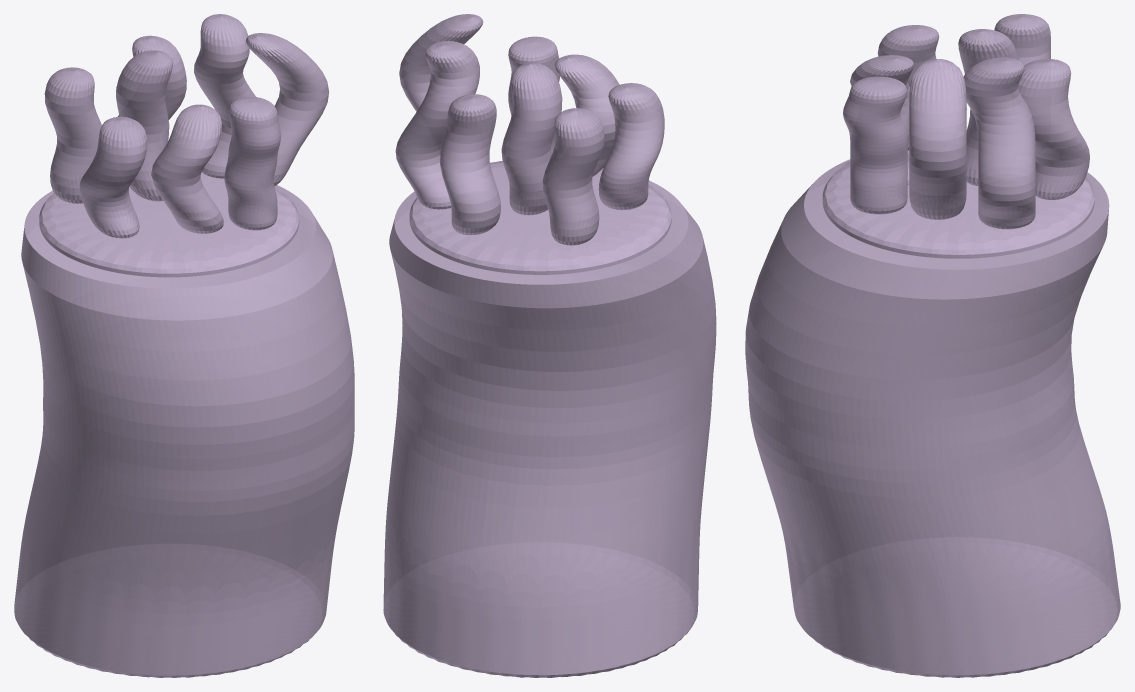
The model's file is zombieworm001.fbx.
3 views of the same model, side by side, from view 1: azimuth 30°, elevation 25°; view 2: azimuth 150°, elevation 25°; view 3: azimuth 270°, elevation 25° (orthographic). The views are drawn at different scales.
Visible parts, largest first — view 1: Cylinder; view 2: Cylinder; view 3: Cylinder.
Boxes of the visible parts, left/top/right/bottom form: Cylinder: left=14, top=14, right=354, bottom=677; Cylinder: left=383, top=14, right=716, bottom=677; Cylinder: left=745, top=14, right=1120, bottom=677.
Size of the model in its own units: 207 by 402 by 229.
